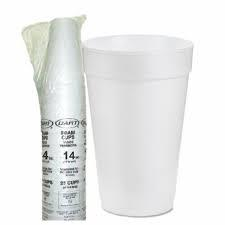Plastic cup: (83, 15, 209, 225)
